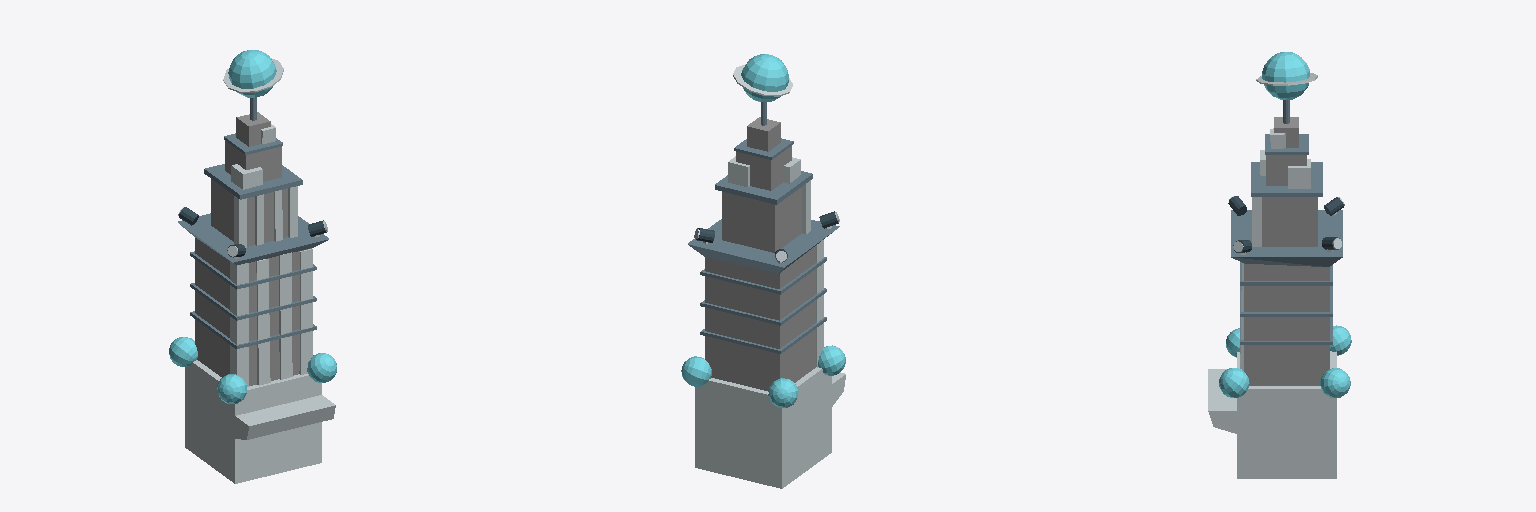
File: building_empire.obj
3 views of the same model, side by side, from view 1: azimuth 30°, elevation 25°; view 2: azimuth 150°, elevation 25°; view 3: azimuth 270°, elevation 25° (orthographic).
Visible parts, largest first — view 1: empire_mesh[number redacted]; view 2: empire_mesh[number redacted]; view 3: empire_mesh[number redacted].
Part boxes in pixels (x1,y1,x2,y2): empire_mesh[number redacted]: (169,50,336,483); empire_mesh[number redacted]: (681,54,845,488); empire_mesh[number redacted]: (1208,52,1351,478).
Size of the model in its own units: 0.5097 by 1.73 by 0.5567.